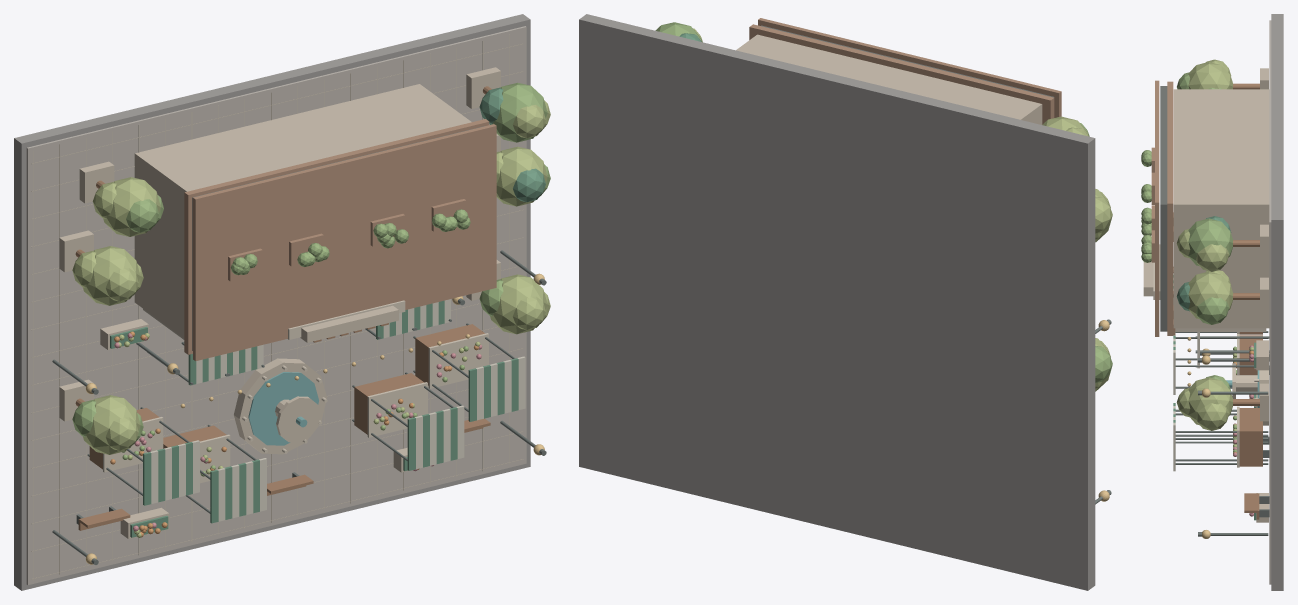
File: market-square.glb
The picture shows the model from 3 angles, left to right: view 1: azimuth 30°, elevation 25°; view 2: azimuth 150°, elevation 25°; view 3: azimuth 270°, elevation 25°; orthographic projection. The views are drawn at different scales.
Visible parts, largest first — view 1: paving_0001, roof_cap_0040, market_hall_0037, plinth_0000, cornice_0038, fountain_water_0261, fountain_basin_0260, counter_top_0229, counter_top_0197, tree_canopy_0291, tree_canopy_0297, tree_canopy_0315 (+19 smaller); view 2: plinth_0000, market_hall_0037, cornice_0038, roof_cap_0040; view 3: market_hall_0037, plinth_0000, roof_0039, cornice_0038, paving_0001, roof_cap_0040, stall_counter_0228, tree_canopy_0309, tree_canopy_0303, tree_canopy_0321, tree_canopy_0297, tree_canopy_0305 (+16 smaller).
Boxes of the visible parts, bbox=[...] form: paving_0001: bbox=[26, 26, 526, 584]; roof_cap_0040: bbox=[193, 124, 496, 361]; market_hall_0037: bbox=[134, 84, 471, 338]; plinth_0000: bbox=[14, 14, 530, 590]; cornice_0038: bbox=[184, 119, 489, 354]; fountain_water_0261: bbox=[248, 372, 318, 445]; fountain_basin_0260: bbox=[234, 358, 326, 454]; counter_top_0229: bbox=[428, 333, 488, 388]; counter_top_0197: bbox=[367, 382, 427, 437]; tree_canopy_0291: bbox=[83, 246, 140, 305]; tree_canopy_0297: bbox=[103, 177, 160, 236]; tree_canopy_0315: bbox=[83, 395, 140, 454]; plinth_0000: bbox=[579, 14, 1095, 590]; market_hall_0037: bbox=[736, 34, 1042, 124]; cornice_0038: bbox=[749, 24, 1054, 124]; roof_cap_0040: bbox=[758, 18, 1061, 117]; market_hall_0037: bbox=[1173, 89, 1269, 328]; plinth_0000: bbox=[1271, 14, 1283, 590]; roof_0039: bbox=[1160, 86, 1167, 331]; cornice_0038: bbox=[1167, 81, 1173, 335]; paving_0001: bbox=[1269, 20, 1271, 584]; roof_cap_0040: bbox=[1155, 80, 1159, 336]; stall_counter_0228: bbox=[1239, 408, 1262, 462]; tree_canopy_0309: bbox=[1188, 218, 1233, 266]; tree_canopy_0303: bbox=[1188, 271, 1233, 319]; tree_canopy_0321: bbox=[1188, 377, 1233, 425]; tree_canopy_0297: bbox=[1188, 62, 1232, 89]; tree_canopy_0305: bbox=[1196, 297, 1229, 324].
Bounding box in the file's own units: 25 × 21 × 7.31.
